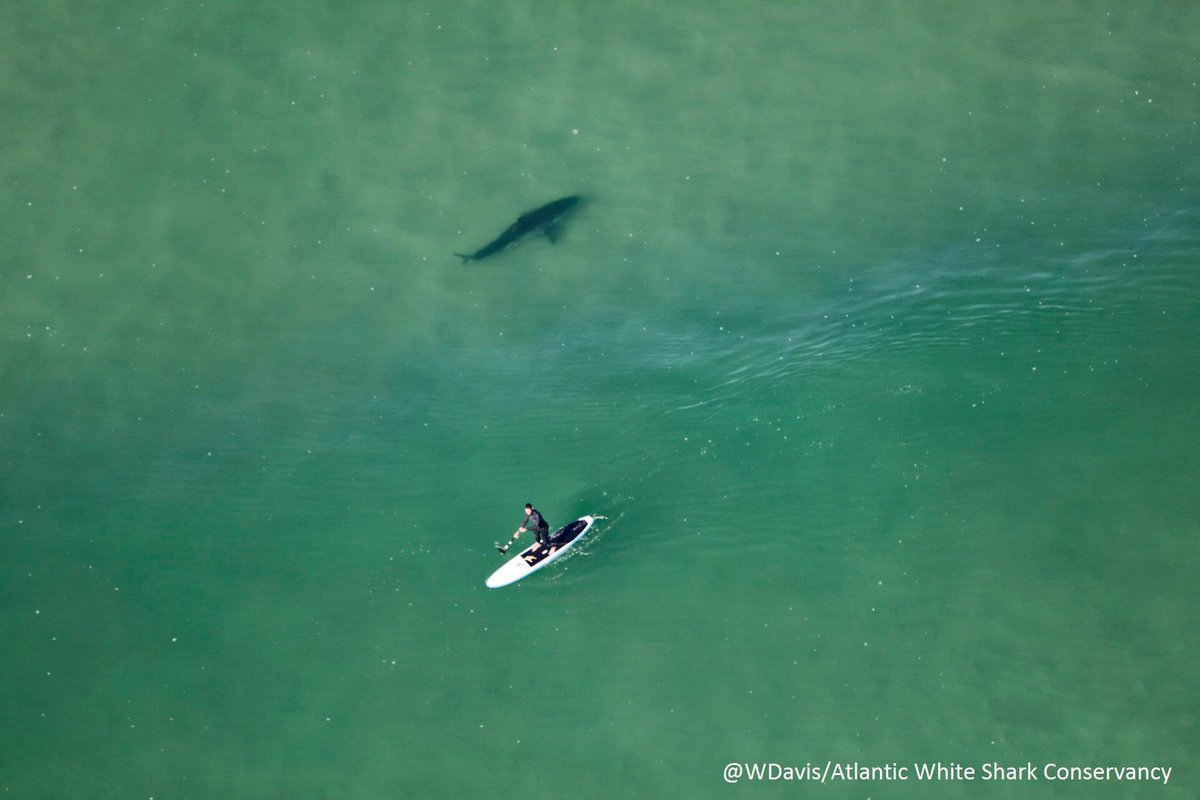shark: (449, 191, 586, 270)
surfer: (474, 496, 598, 591)
